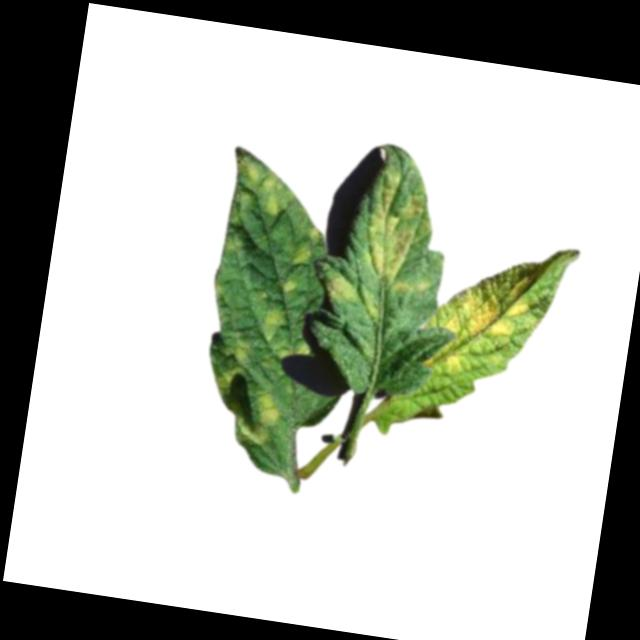Leaf_Mold: (420, 247, 537, 384), (357, 167, 446, 297), (221, 149, 298, 216), (227, 386, 280, 451), (210, 336, 251, 393), (320, 269, 360, 309), (289, 222, 321, 270), (255, 301, 288, 340)
